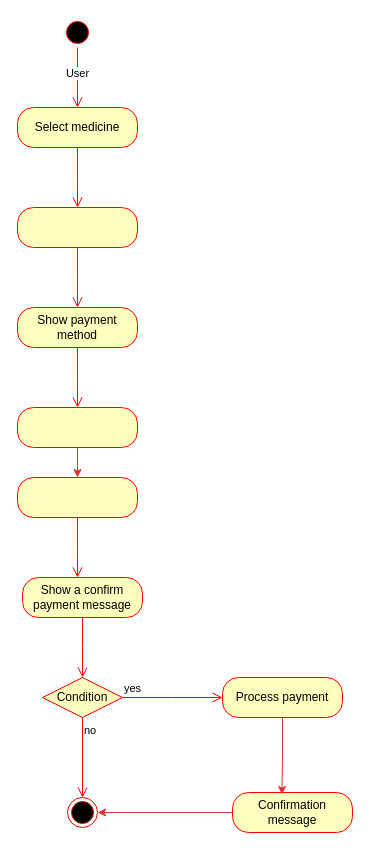
Image size: 370x850. Some labels were removed from this diagram. Here are the shapes that lost their labels. From the top down, the centre of each, then its label:
pixel 77 227: Proceed to payment
pixel 77 427: Select payment method
pixel 77 497: Enter details of payment
